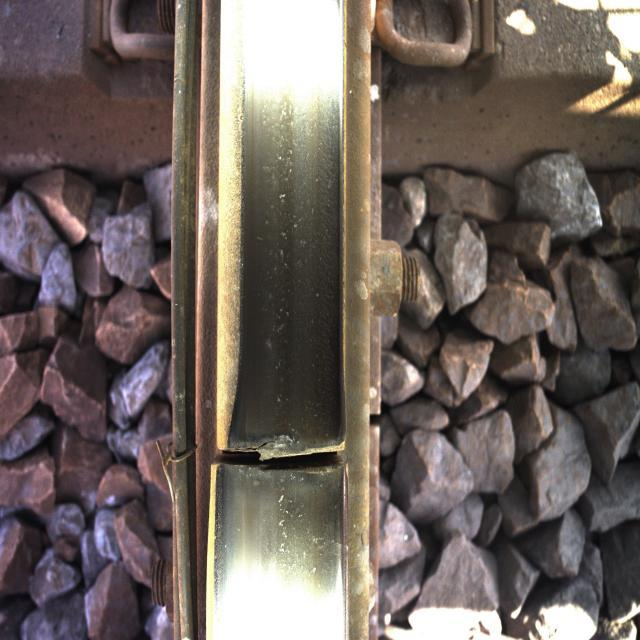spalling: (198, 406, 366, 515)
